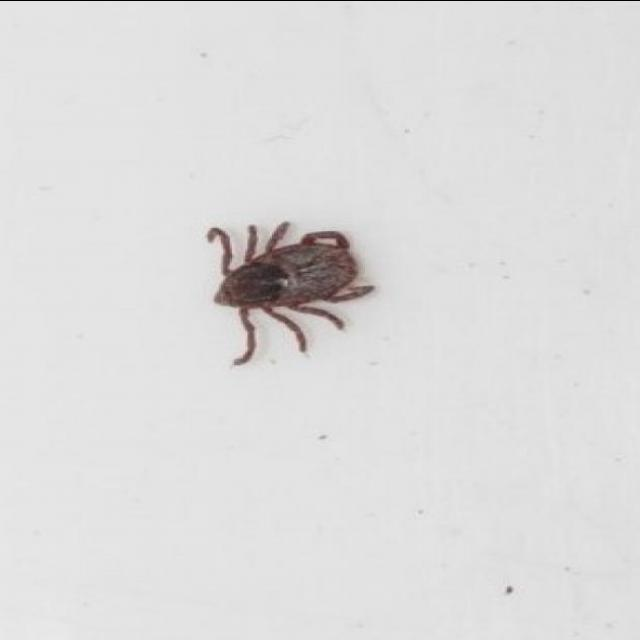Rhipicephalus Sanguineus-F: (203, 220, 374, 365)
